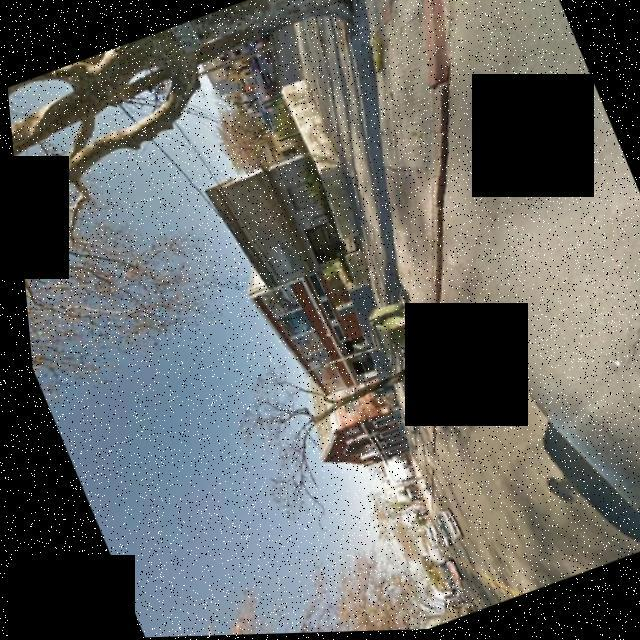bin: (342, 288, 434, 374)
